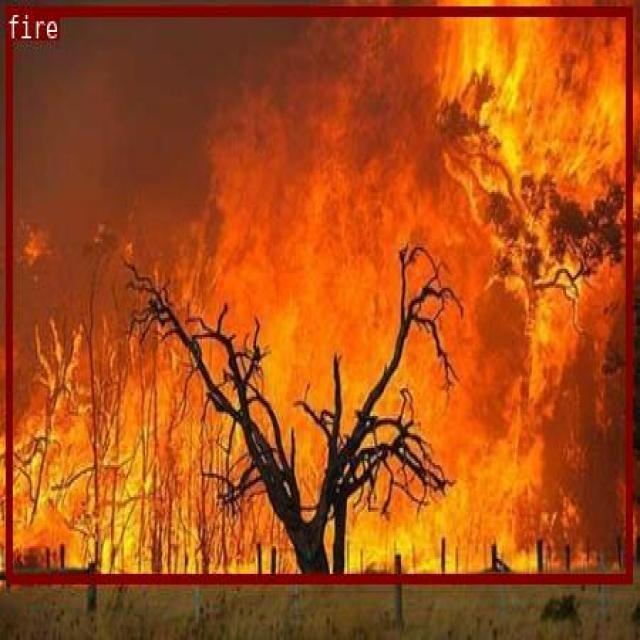fire: (5, 5, 631, 580)
